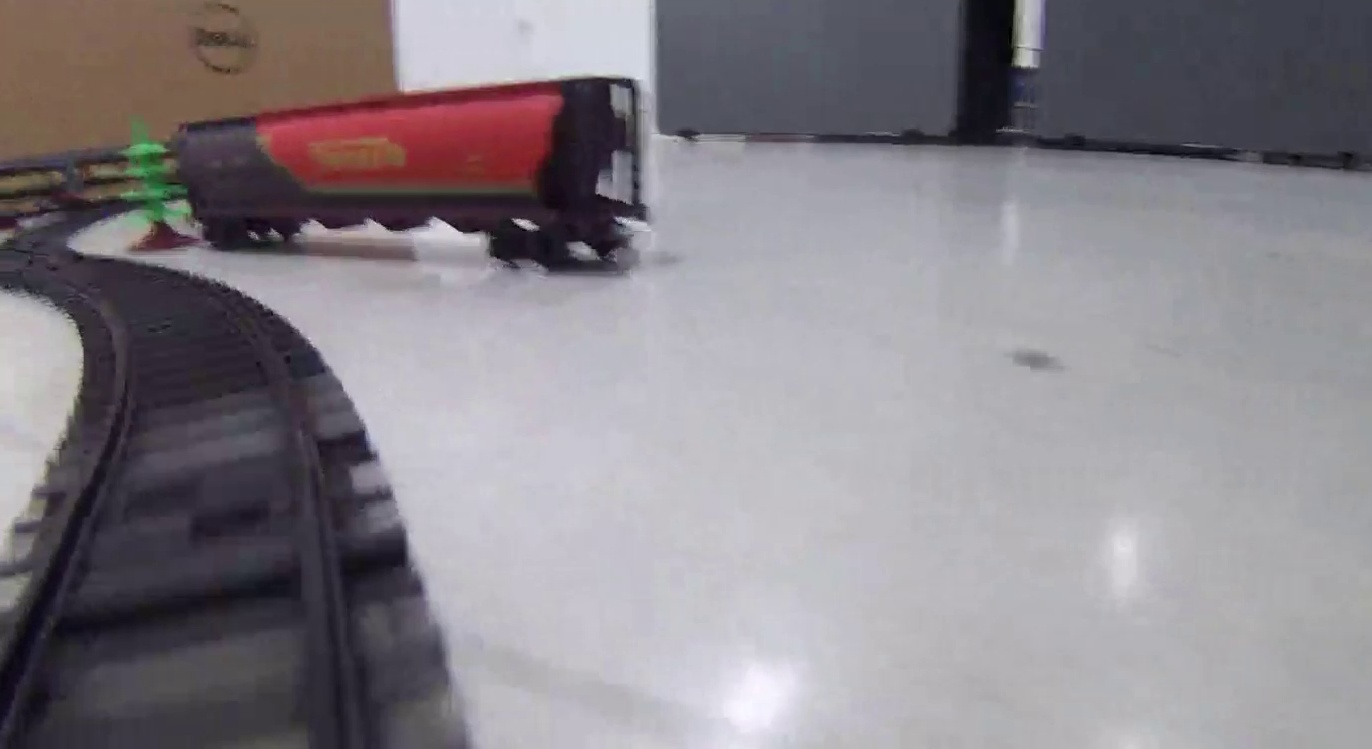tree: (123, 120, 190, 253)
